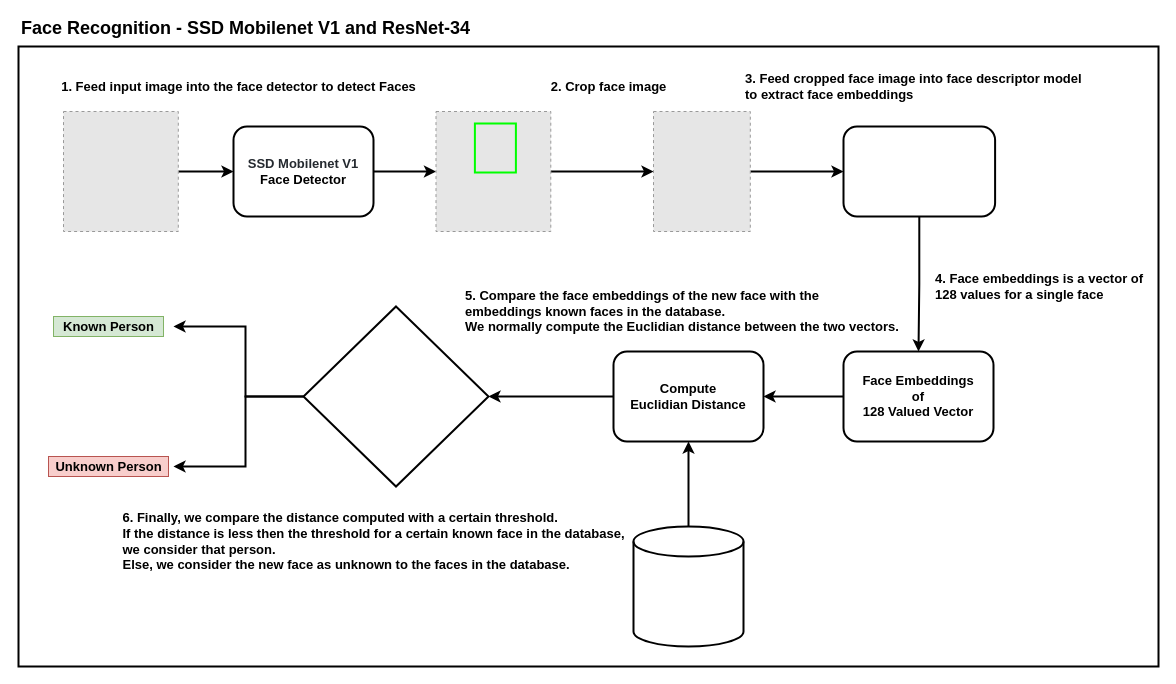
Image size: 1176x684. Some labels were removed from this diagram. Grey dashed boxes stand in for pictures. The centre of each missing label's shape, as x and y in pixels:
Face Matcher Compare with Threshold: the point at 395,396
Knows Face Embeddings ( Database ): the point at 688,586
ResNet-34 Face Descriptor: the point at 919,171
